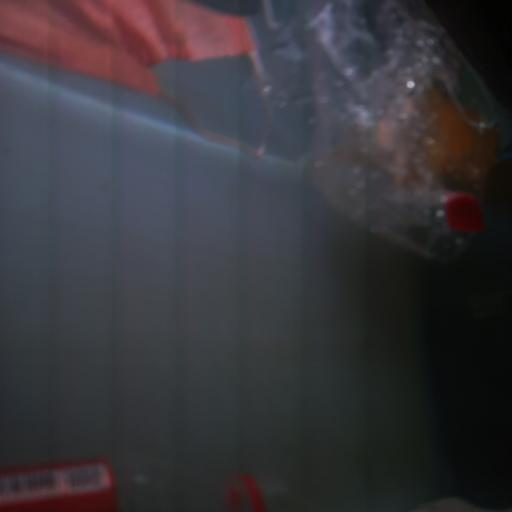bottle_cap: (444, 195, 484, 237)
mask: (5, 1, 278, 162)
plastic_bag: (263, 0, 512, 268)
plastic_bottle: (2, 456, 288, 512)
